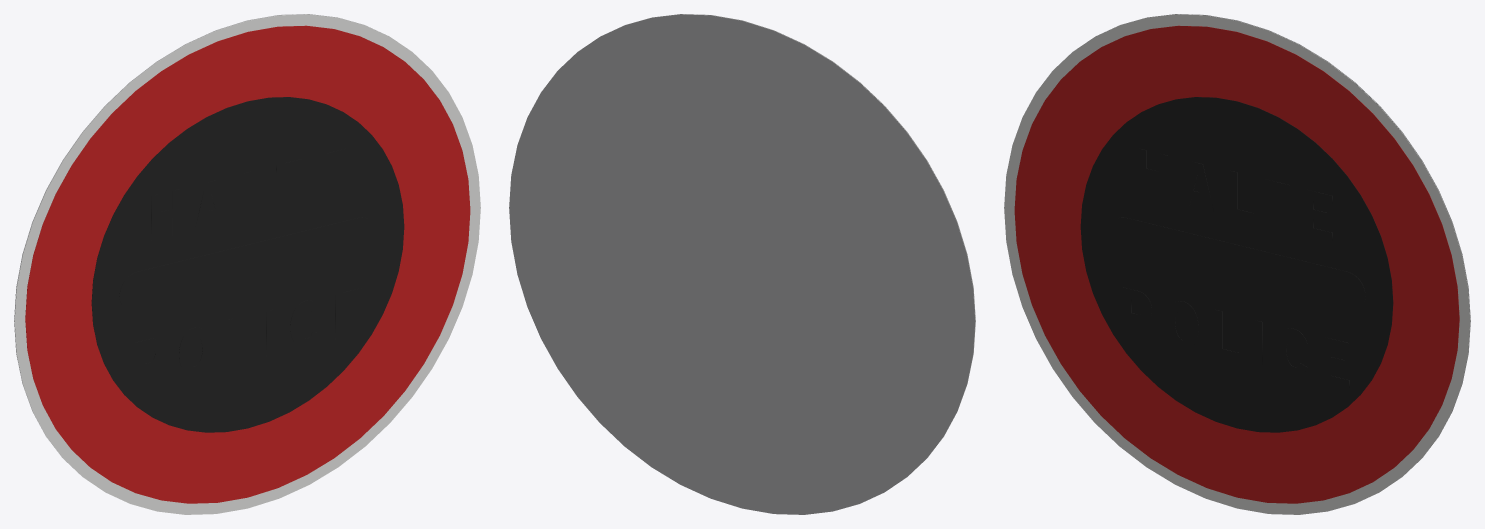
3 views of the same model, side by side, from view 1: azimuth 30°, elevation 25°; view 2: azimuth 150°, elevation 25°; view 3: azimuth 330°, elevation 25° (orthographic).
Parts seen in each view (by area): view 1: B5b_p01, B5b_p02, B5b_p00, B5b_p03, B5b_p12, B5b_p14, B5b_p13, B5b_p05, B5b_p09, B5b_p04, B5b_dos, B5b_p08 (+3 smaller); view 2: B5b_dos, B5b_p00; view 3: B5b_p01, B5b_p02, B5b_p00, B5b_p03, B5b_p12, B5b_p14, B5b_p13, B5b_p05, B5b_p09, B5b_p04, B5b_p08, B5b_dos (+3 smaller).
Part boxes in pixels (left/top/right/bottom): B5b_p01: left=25, top=25, right=470, bottom=503; B5b_p02: left=91, top=97, right=404, bottom=432; B5b_p00: left=14, top=14, right=480, bottom=514; B5b_p03: left=119, top=217, right=376, bottom=312; B5b_p12: left=151, top=189, right=180, bottom=241; B5b_p14: left=319, top=148, right=346, bottom=200; B5b_p13: left=195, top=180, right=227, bottom=230; B5b_p05: left=179, top=327, right=210, bottom=374; B5b_p09: left=335, top=288, right=362, bottom=339; B5b_p04: left=134, top=338, right=163, bottom=388; B5b_dos: left=14, top=14, right=385, bottom=473; B5b_p08: left=290, top=300, right=319, bottom=347; B5b_dos: left=509, top=14, right=975, bottom=514; B5b_p00: left=604, top=14, right=975, bottom=473; B5b_p01: left=1014, top=25, right=1459, bottom=503; B5b_p02: left=1080, top=97, right=1393, bottom=432; B5b_p00: left=1004, top=14, right=1470, bottom=514; B5b_p03: left=1108, top=217, right=1365, bottom=312; B5b_p12: left=1138, top=148, right=1167, bottom=200; B5b_p14: left=1305, top=189, right=1332, bottom=241; B5b_p13: left=1181, top=161, right=1213, bottom=212; B5b_p05: left=1167, top=301, right=1198, bottom=348; B5b_p09: left=1322, top=337, right=1349, bottom=388; B5b_p04: left=1123, top=287, right=1151, bottom=334; B5b_p08: left=1277, top=328, right=1307, bottom=375; B5b_dos: left=1099, top=14, right=1470, bottom=473.
Bounding box in the file's own units: 0.85 × 0.8498 × 0.0075.
